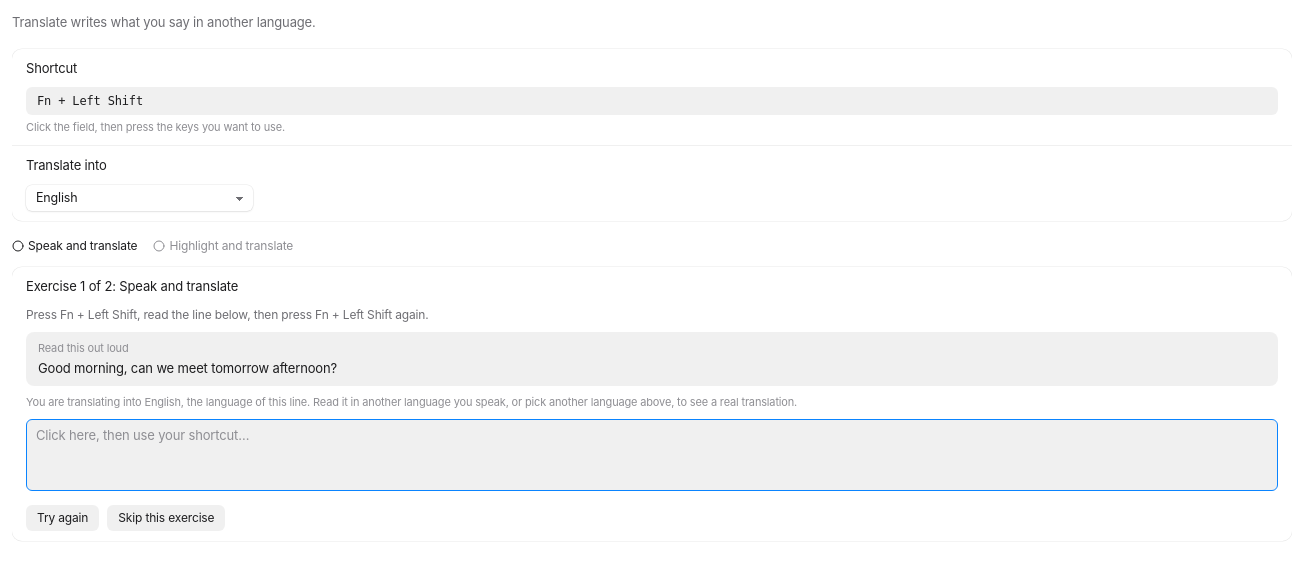
it: ShortcutStep recording › refuses a shortcut that another role already uses
Click the button "Fn + Left Shift" at (90, 101), box [26, 87, 1278, 115]
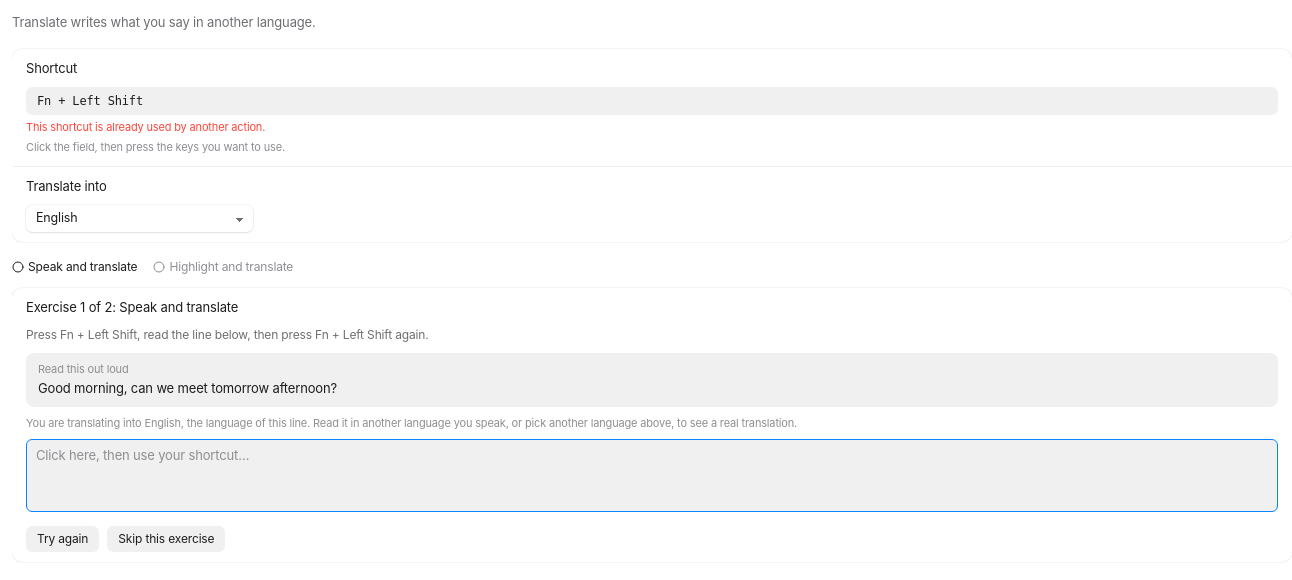
Expected: the text "This shortcut is already used by another action." is shown, [26, 120, 265, 134]
